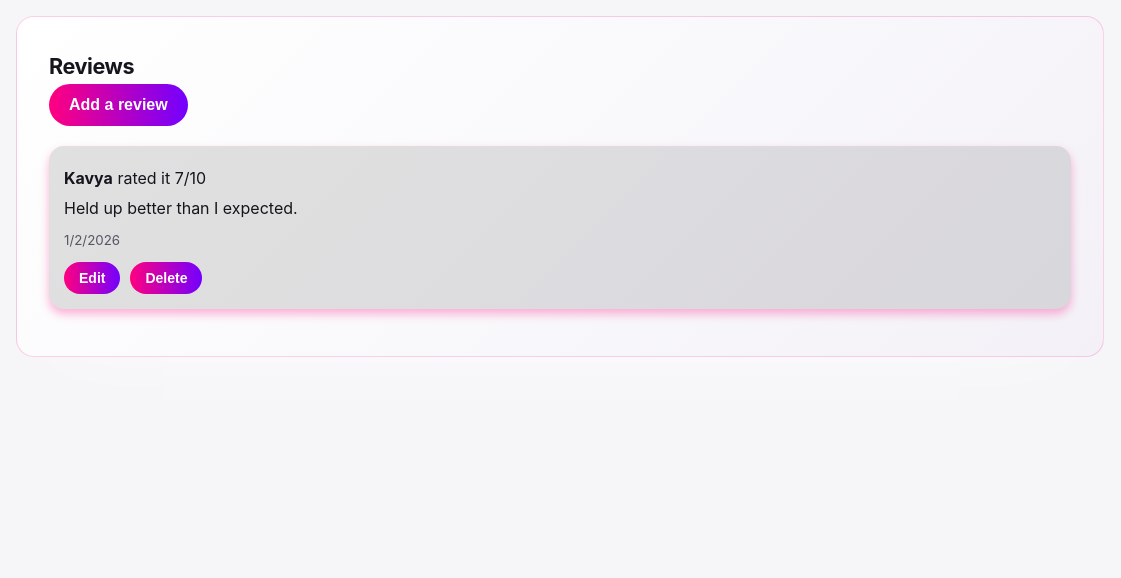
editing and deleting › opens the editor pre-filled with the existing review
Step 1. Click the button "Edit" → (92, 278), box [64, 262, 120, 294]
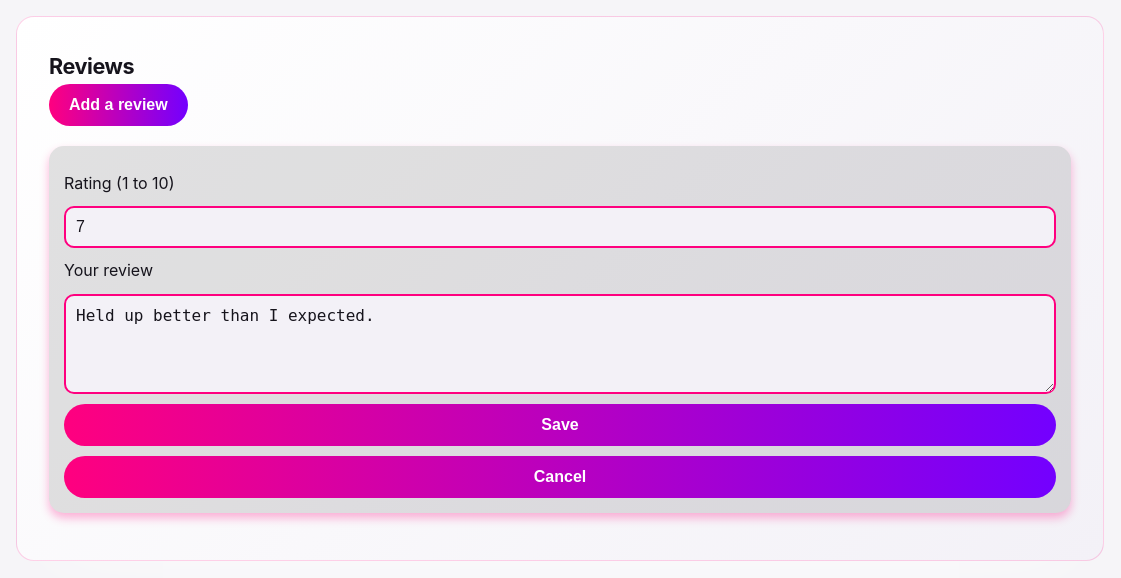
Now the number field labelled "Rating (1 to 10)" holds "7", box [64, 206, 1056, 248]
Now the text box labelled "Your review" holds "Held up better than I expected.", box [64, 294, 1056, 394]
